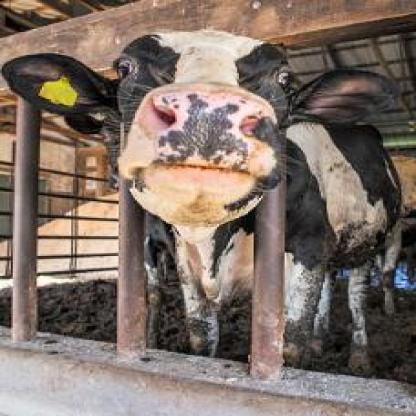cow: (3, 32, 398, 376)
